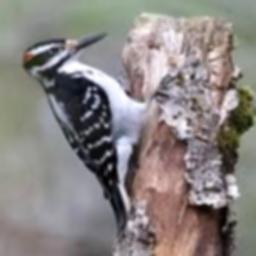Woodpecker: (23, 31, 149, 234)
